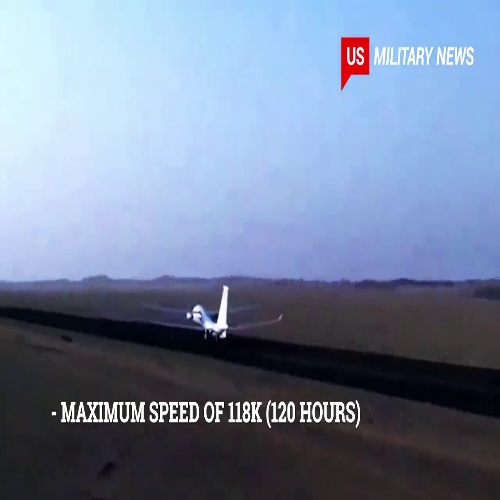uav513: (142, 283, 282, 343)
